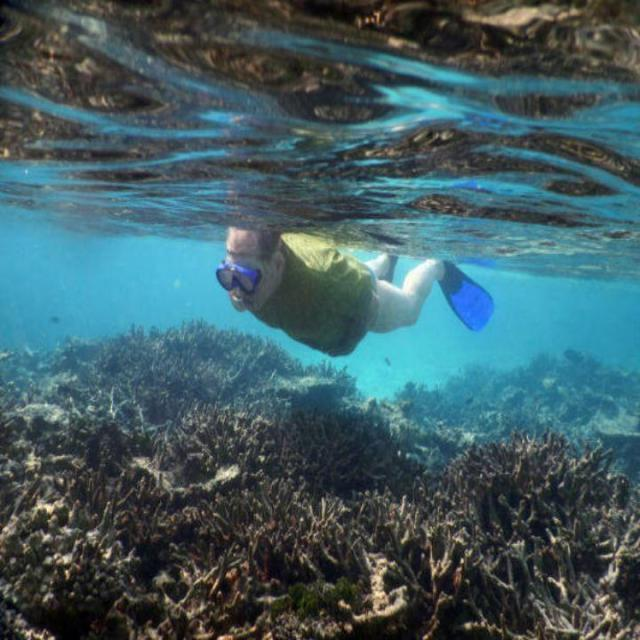Dead Coral: (21, 372, 602, 638)
